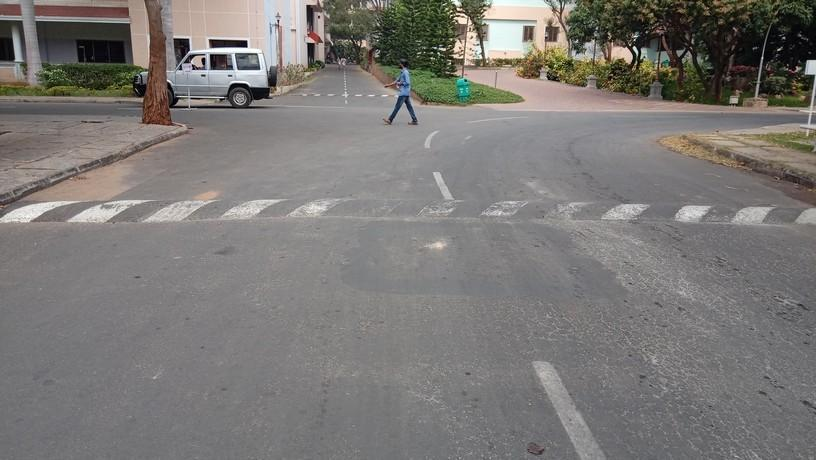speedbreaker: (0, 192, 815, 236)
